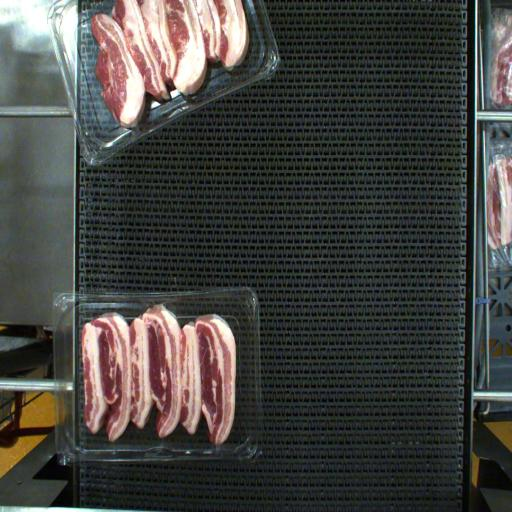packaging-error: (143, 287, 179, 319)
